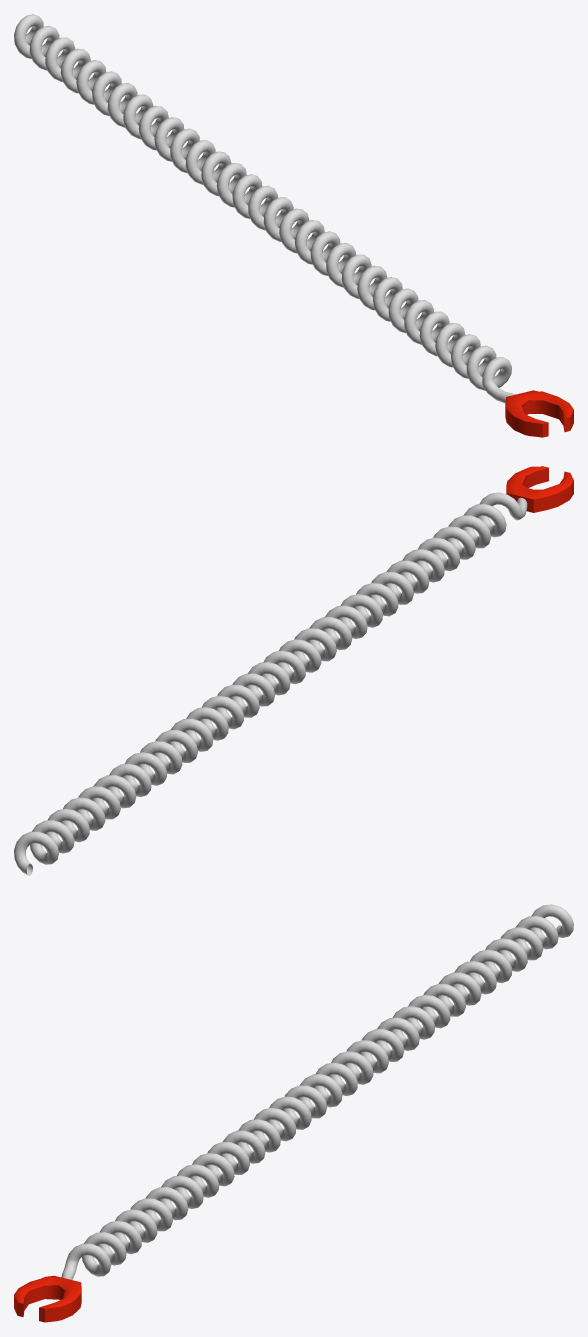
The model's file is grabber.fbx.
3 renders of one model, top to bottom at view 1: azimuth 30°, elevation 25°; view 2: azimuth 150°, elevation 25°; view 3: azimuth 330°, elevation 25°, orthographic.
Visible parts, largest first — view 1: Circle.001; view 2: Circle.001; view 3: Circle.001.
Part boxes in pixels (x1,y1,x2,y2): Circle.001: [14, 14, 573, 437]; Circle.001: [14, 466, 573, 875]; Circle.001: [14, 904, 573, 1322].
Bounding box in the file's own units: 845 × 552 × 14253.
